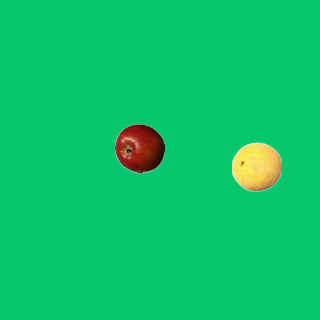Apple Braeburn: (114, 123, 164, 173)
Cantaloupe 1: (231, 141, 281, 191)
